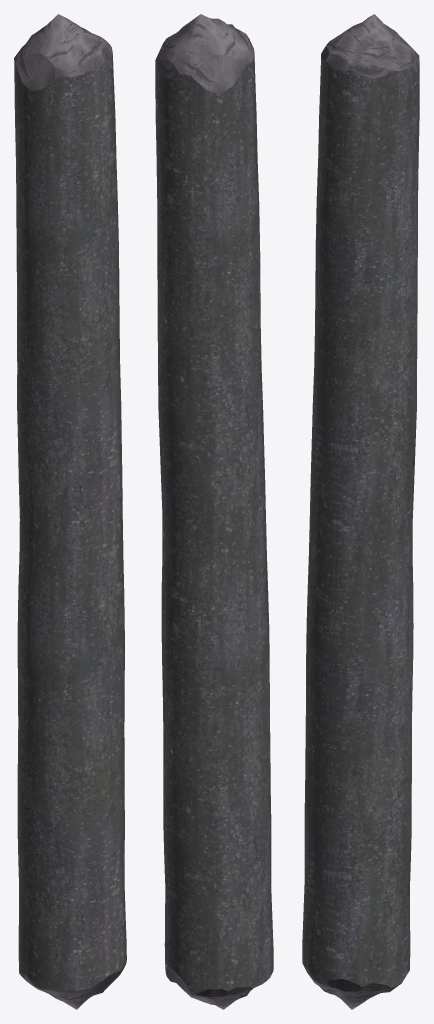
The picture shows the model from 3 angles, left to right: view 1: azimuth 90°, elevation 25°; view 2: azimuth 150°, elevation 25°; view 3: azimuth 330°, elevation 25°; orthographic projection.
Parts seen in each view (by area): view 1: SM_FH_Ash_Tree_03_half_top_LOD0; view 2: SM_FH_Ash_Tree_03_half_top_LOD0; view 3: SM_FH_Ash_Tree_03_half_top_LOD0.
Boxes of the visible parts, x1=… form: SM_FH_Ash_Tree_03_half_top_LOD0: x1=14, y1=14, x2=126, y2=1009; SM_FH_Ash_Tree_03_half_top_LOD0: x1=155, y1=14, x2=273, y2=1009; SM_FH_Ash_Tree_03_half_top_LOD0: x1=302, y1=14, x2=419, y2=1009.
Bounding box in the file's own units: 0.4881 × 4.67 × 0.4827.
Materials: 1 (1 with a texture image).
